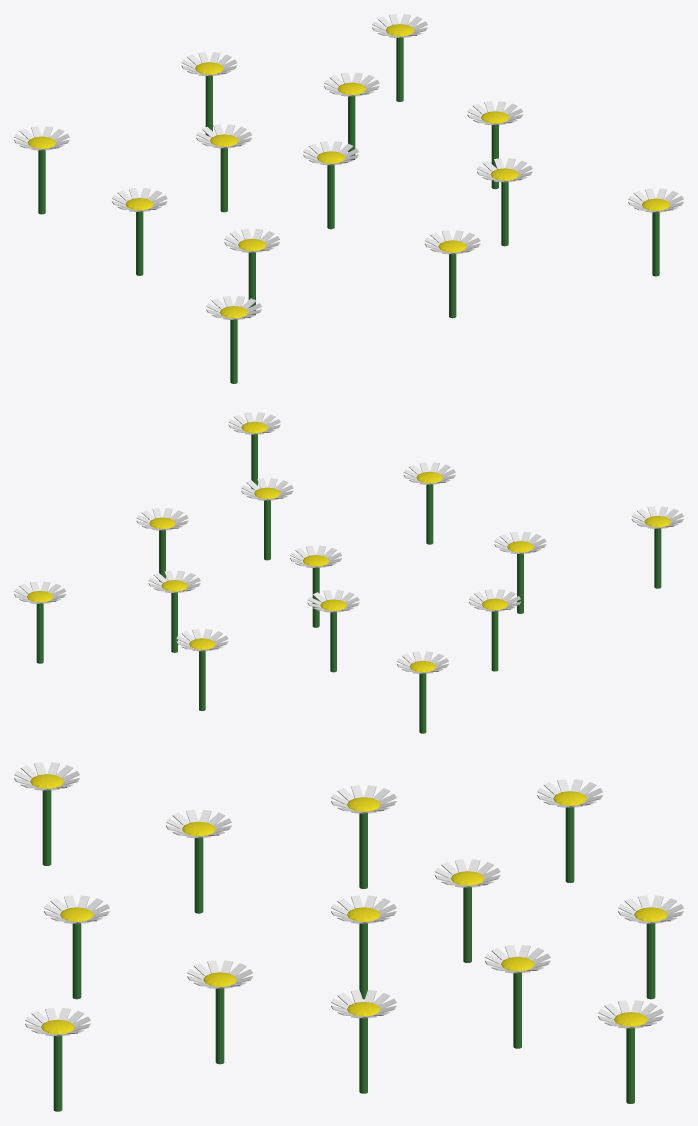
Rendered from WhiteFlower.fbx.
The picture shows the model from 3 angles, top to bottom: view 1: azimuth 30°, elevation 25°; view 2: azimuth 150°, elevation 25°; view 3: azimuth 270°, elevation 25°; orthographic projection. The views are drawn at different scales.
Parts seen in each view (by area): view 1: Sphere.006; view 2: Sphere.006; view 3: Sphere.006.
Part boxes in pixels (x1,y1,x2,y2): Sphere.006: (14, 14, 683, 383); Sphere.006: (14, 412, 683, 733); Sphere.006: (14, 762, 683, 1111).
Size of the model in its own units: 187 by 28.08 by 193.
